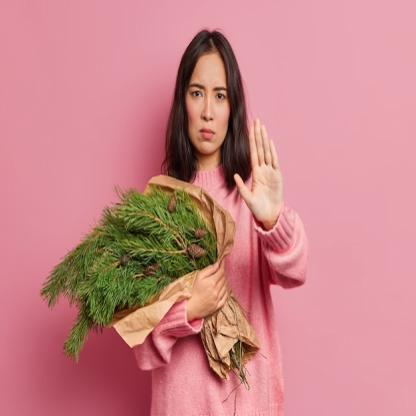stop: (233, 116, 288, 235)
